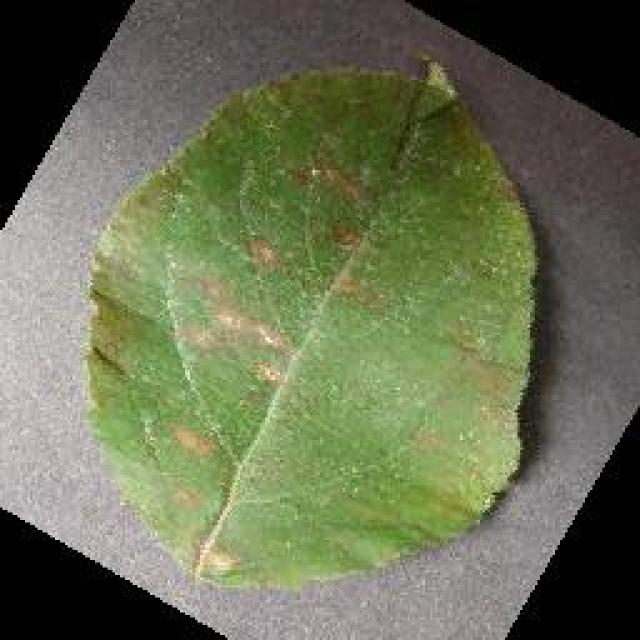apple healthy: (80, 55, 542, 593)
